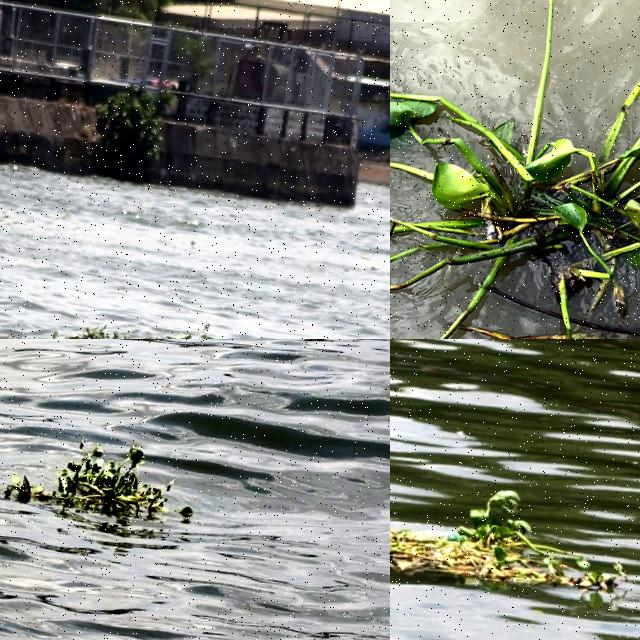water-hyacinth: (391, 1, 640, 340), (391, 446, 640, 615), (7, 438, 208, 524), (52, 311, 260, 340)
